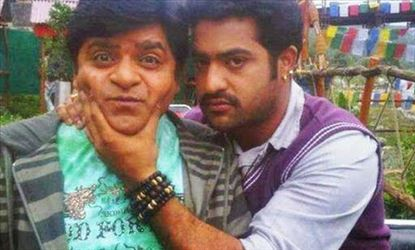bad: (163, 20, 270, 128), (86, 36, 175, 126)
